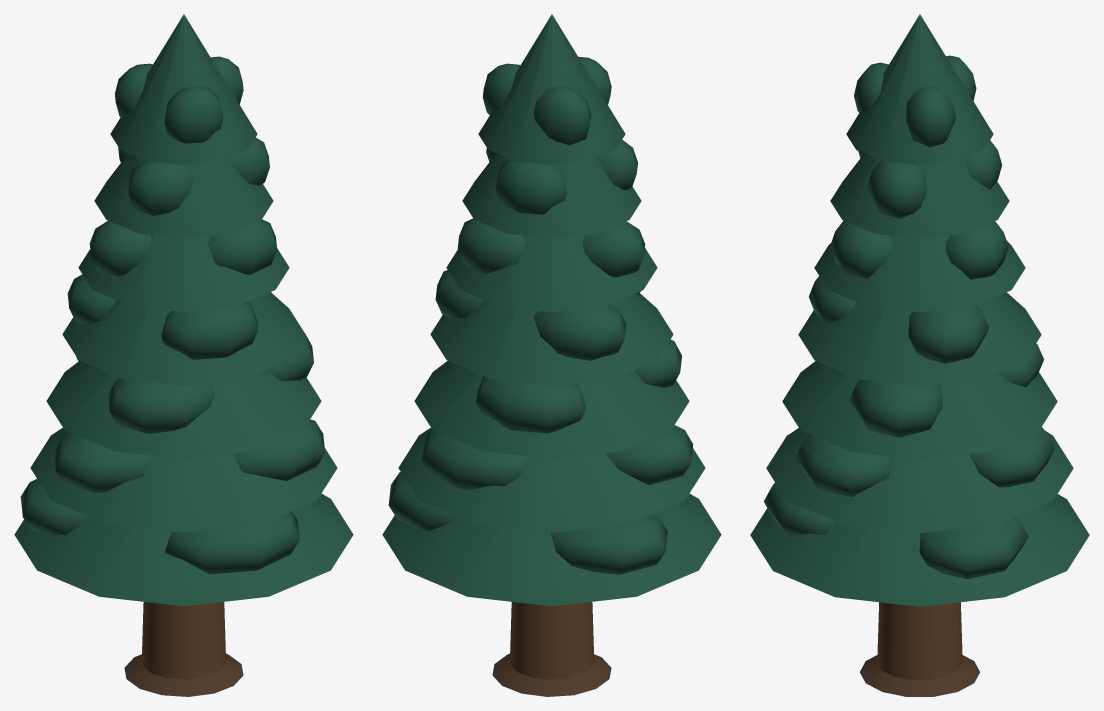
The model's file is pine_l05-2.glb.
The picture shows the model from 3 angles, left to right: view 1: azimuth 30°, elevation 25°; view 2: azimuth 150°, elevation 25°; view 3: azimuth 270°, elevation 25°; orthographic projection.
Visible parts, largest first — view 1: layered_branch_crown, tapered_trunk, pine_l05; view 2: layered_branch_crown, tapered_trunk, pine_l05; view 3: layered_branch_crown, tapered_trunk, pine_l05.
Part boxes in pixels (x1=…): layered_branch_crown: x1=14, y1=14, x2=353, y2=606; tapered_trunk: x1=141, y1=602, x2=226, y2=679; pine_l05: x1=124, y1=653, x2=243, y2=696; layered_branch_crown: x1=382, y1=14, x2=721, y2=606; tapered_trunk: x1=509, y1=602, x2=594, y2=679; pine_l05: x1=492, y1=653, x2=611, y2=696; layered_branch_crown: x1=750, y1=14, x2=1089, y2=606; tapered_trunk: x1=877, y1=602, x2=962, y2=679; pine_l05: x1=860, y1=655, x2=979, y2=696.
Size of the model in its own units: 2.8 by 5.99 by 2.8.
